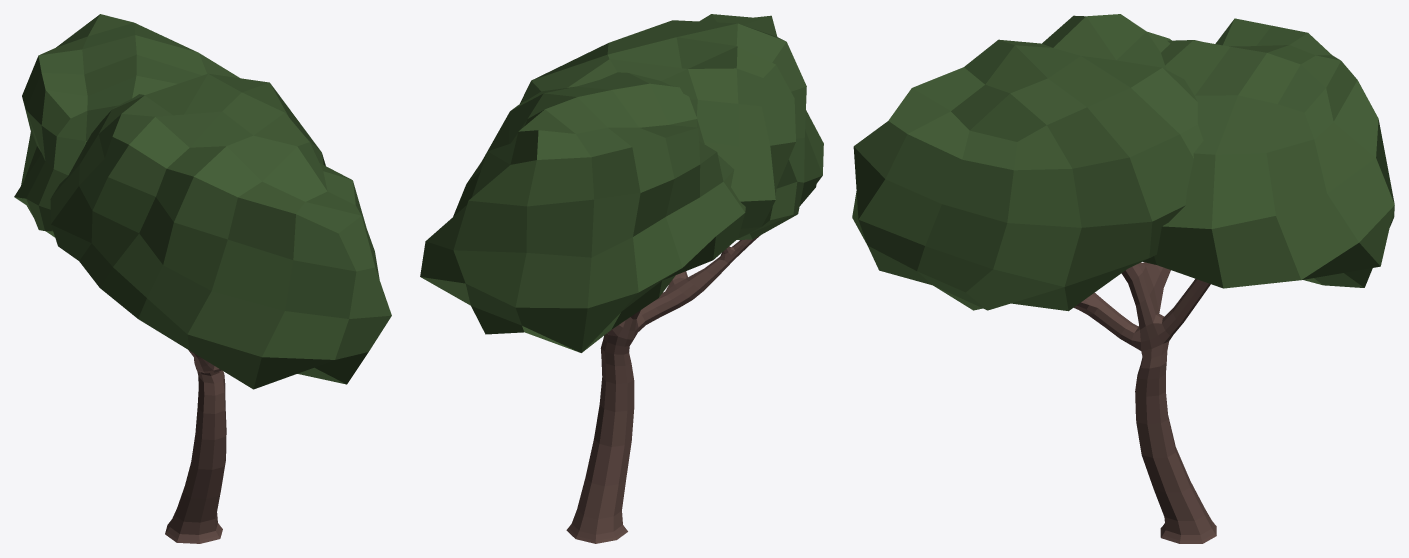
File: simple.003.fbx
3 renders of one model, left to right at view 1: azimuth 30°, elevation 25°; view 2: azimuth 150°, elevation 25°; view 3: azimuth 270°, elevation 25°, orthographic.
Visible parts, largest first — view 1: simple.003; view 2: simple.003; view 3: simple.003.
Part boxes in pixels (x1,y1,x2,y2): simple.003: [14, 14, 391, 543]; simple.003: [420, 14, 823, 543]; simple.003: [852, 14, 1394, 543].
Size of the model in its own units: 1.57 by 2.63 by 2.73.
